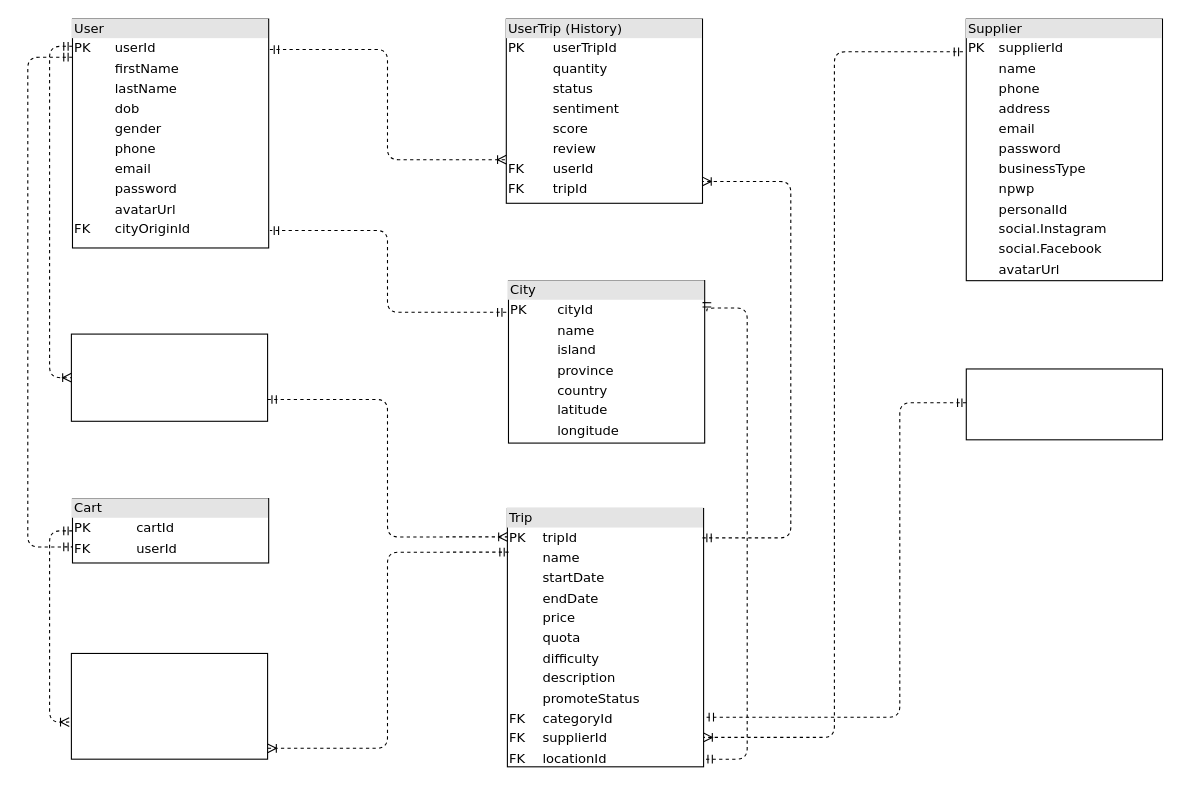
Some shapes in this 1182 by 788 pixel diagram are drawn without their labels. Each missing label, with the centre of its shape:
CartTrip (Order) PK cartTripId quantity FK cartId FK tripId: the point at 169,705
Category PK categoryId name: the point at 1063,404
Wish List PK wishListId FK userId FK tripId: the point at 169,377
